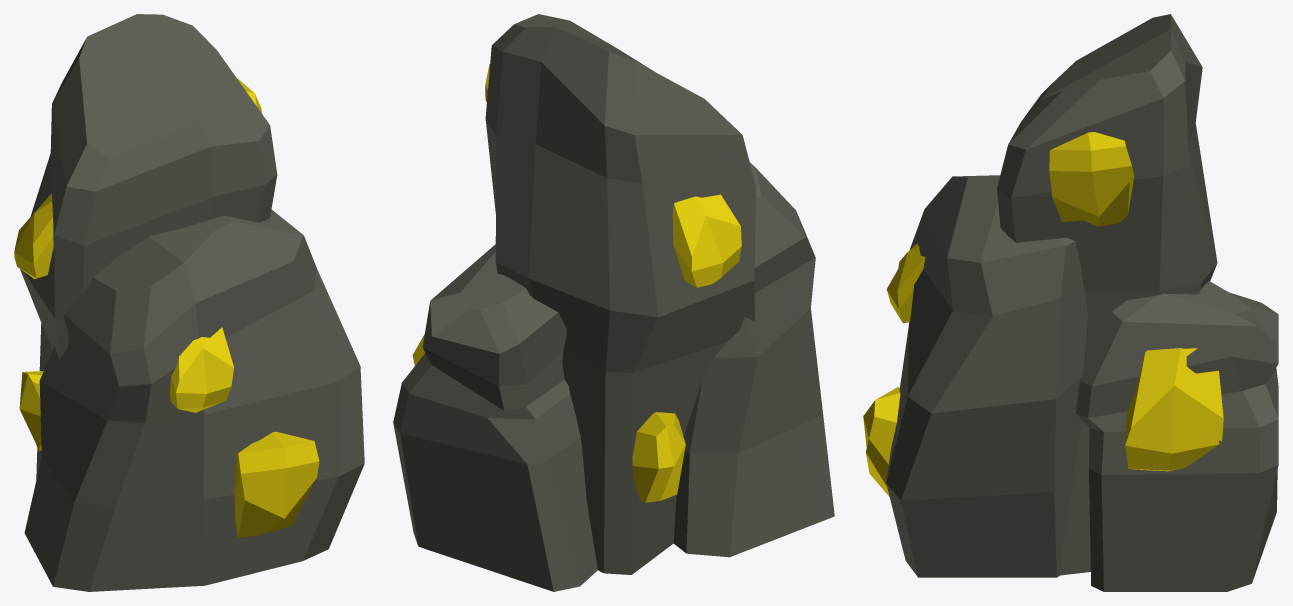
File: Ore1_Gold.fbx
3 renders of one model, left to right at view 1: azimuth 30°, elevation 25°; view 2: azimuth 150°, elevation 25°; view 3: azimuth 270°, elevation 25°, orthographic. The views are drawn at different scales.
Parts seen in each view (by area): view 1: Ore1_Gold, Gold; view 2: Ore1_Gold, Gold; view 3: Ore1_Gold, Gold.
Part boxes in pixels (left/top/right/bottom): Ore1_Gold: left=20, top=14, right=364, bottom=591; Gold: left=14, top=78, right=319, bottom=537; Ore1_Gold: left=393, top=14, right=834, bottom=591; Gold: left=412, top=64, right=741, bottom=502; Ore1_Gold: left=886, top=14, right=1278, bottom=591; Gold: left=863, top=132, right=1223, bottom=496.
Bounding box in the file's own units: 128 × 199 × 147.
